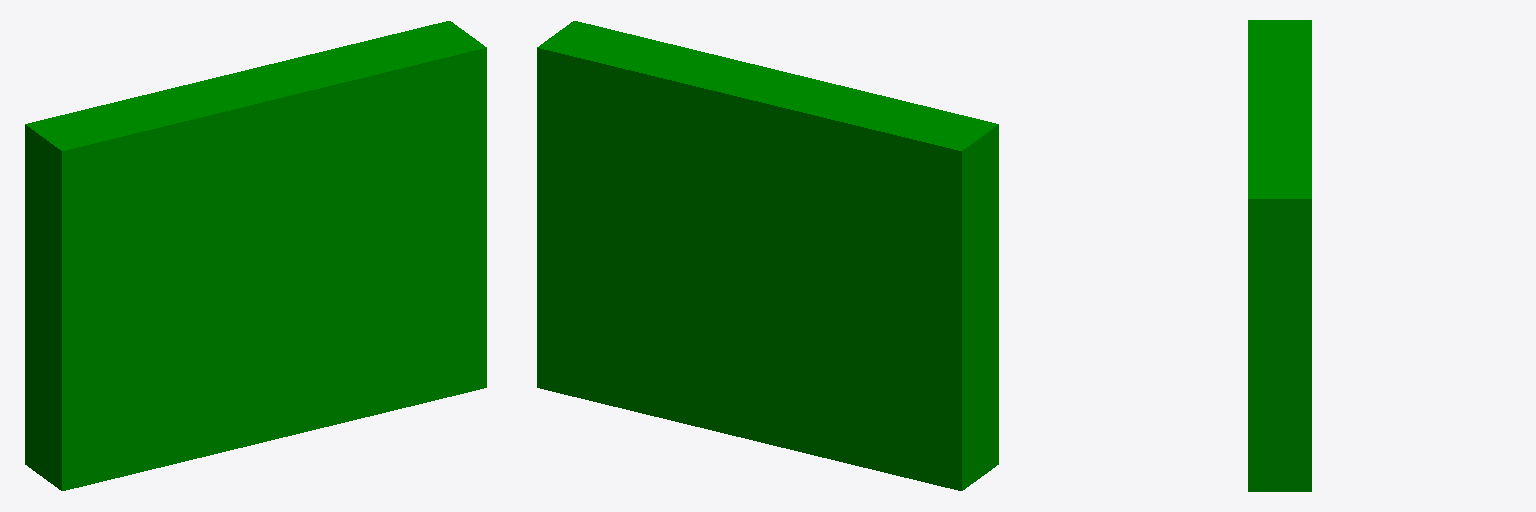
The robot description file, URDF, robot "book":
<robot name="book">
  <link name="book_body">
    <collision>
      <origin xyz="0 0 0" />
      <geometry>
        <box size="0.251 0.038 0.192" />
      </geometry>
      <inertial>
          <mass value="0.01"/>
          <inertia ixx="0.05" ixy="0.0" ixz="0.0" iyy="0.05" iyz="0.0" izz="0.05"/>
      </inertial>
    </collision>
    <visual>
      <origin xyz="0 0 0" />
      <material name="c">
        <color rgba="0.0 0.6 0.0 1.0" />
      </material>
      <geometry>
        <box size="0.251 0.038 0.192" />
      </geometry>
    </visual>
  </link>
</robot>

--- What the picture shows (computed from the rendered views, not written in the file) ---
The picture shows the robot from 3 angles, left to right: view 1: azimuth 30°, elevation 25°; view 2: azimuth 150°, elevation 25°; view 3: azimuth 270°, elevation 25°; orthographic projection.
Model book with 1 links and 0 joints (none), rooted at book_body, posed all joints at 0.
Visible links, largest first — view 1: book_body; view 2: book_body; view 3: book_body.
Link boxes in pixels (x1,y1,x2,y2): book_body: (25, 21, 486, 490); book_body: (537, 21, 998, 490); book_body: (1248, 20, 1311, 491).
Size in the robot's own frame: 0.251 by 0.038 by 0.192 metres.
Geometry: primitives only (box / cylinder / sphere), no mesh files.
